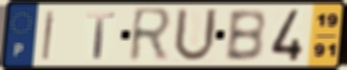4: (268, 7, 306, 64)
B: (223, 8, 268, 63)
I: (40, 9, 58, 62)
R: (127, 5, 176, 66)
T: (85, 10, 118, 60)
U: (171, 6, 220, 65)
